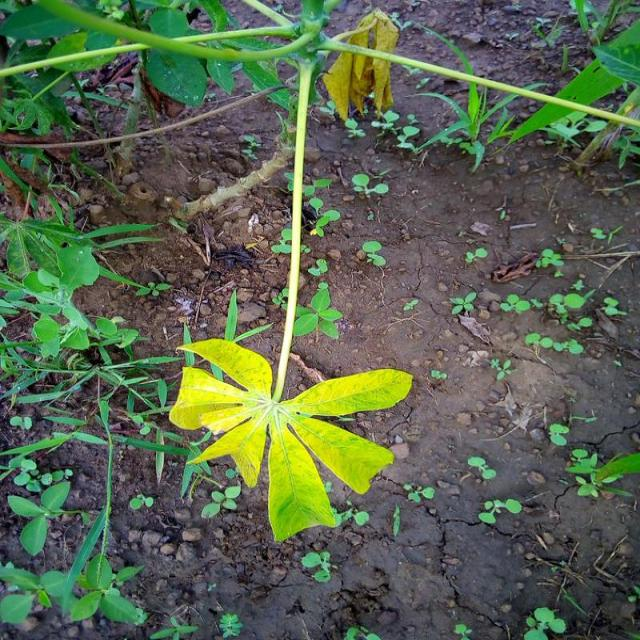cassava leaf: (168, 335, 414, 542), (321, 7, 399, 122)
